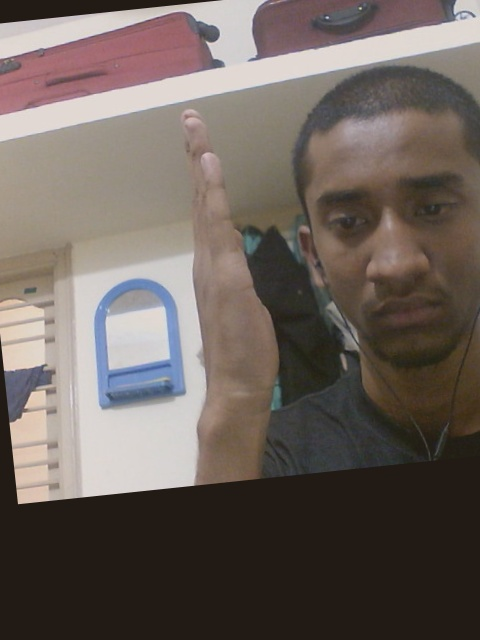hand: (173, 102, 283, 401)
